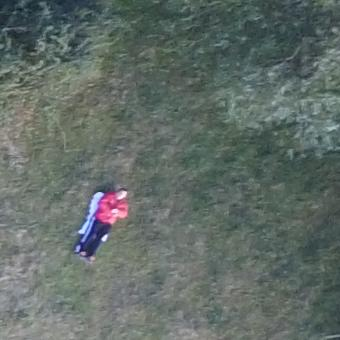human: (75, 185, 133, 263)
